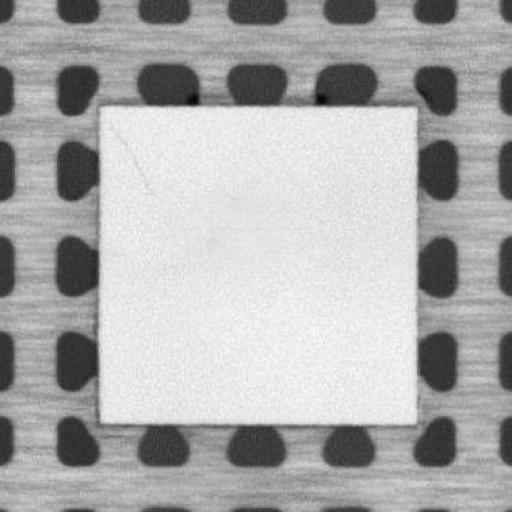DIE_CRACK: (111, 123, 153, 193)
